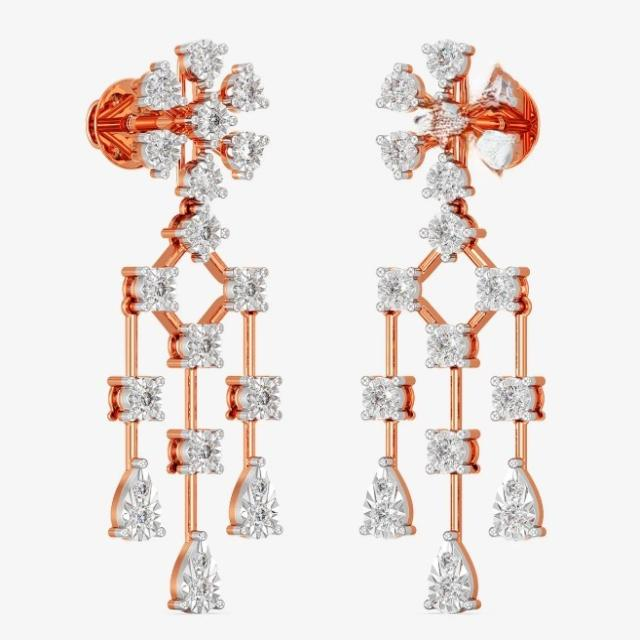missing gem: (418, 98, 468, 148), (476, 78, 516, 107)
